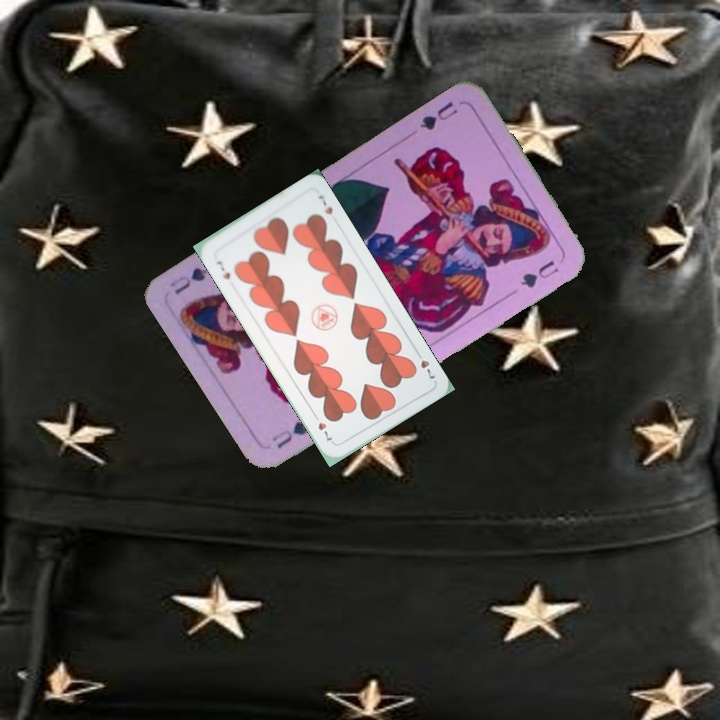GU: (415, 97, 461, 133), (267, 417, 312, 452)
H7: (412, 346, 438, 383), (213, 256, 233, 282)
